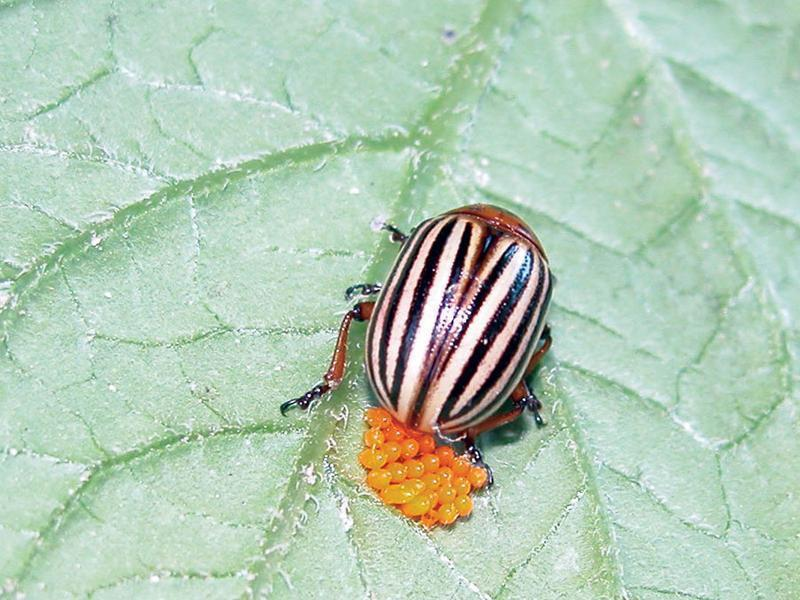hrosc: (356, 199, 563, 451)
